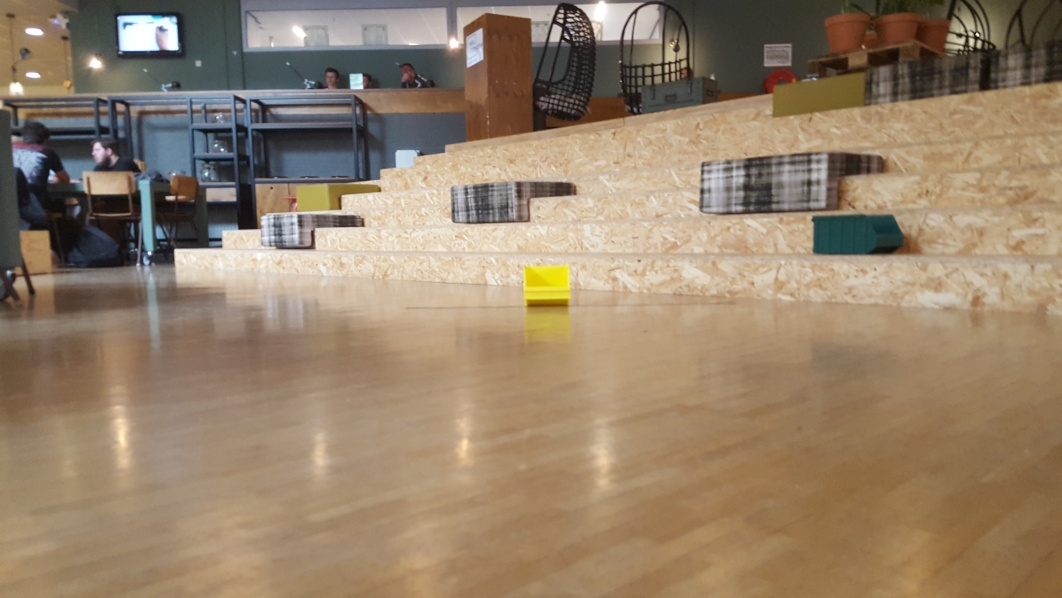tray: (802, 213, 907, 253), (518, 261, 574, 307)
